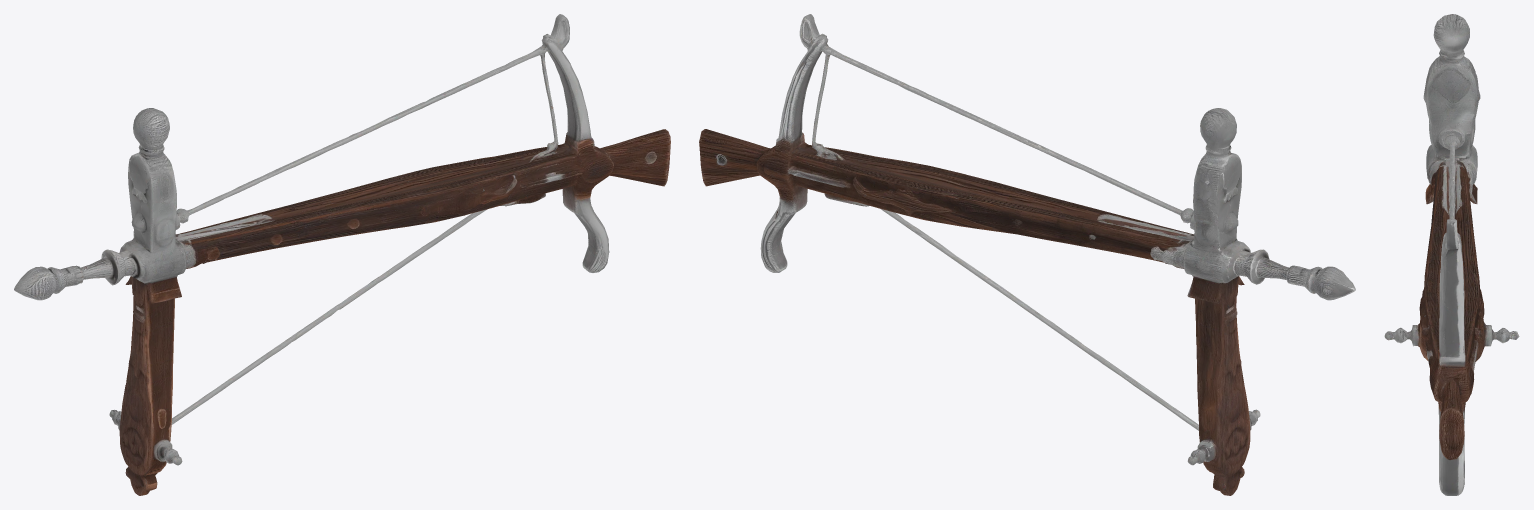
The model's file is wpn-crossbow.glb.
The picture shows the model from 3 angles, left to right: view 1: azimuth 30°, elevation 25°; view 2: azimuth 150°, elevation 25°; view 3: azimuth 270°, elevation 25°; orthographic projection.
Size of the model in its own units: 0.447 by 0.25 by 0.081.
Materials: 1 (1 with a texture image).
